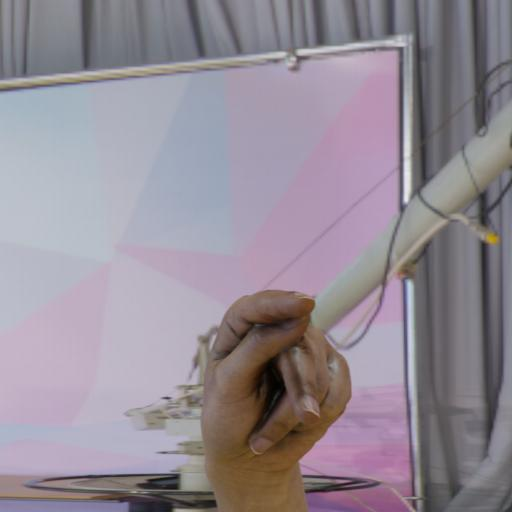P: (192, 280, 356, 488)
